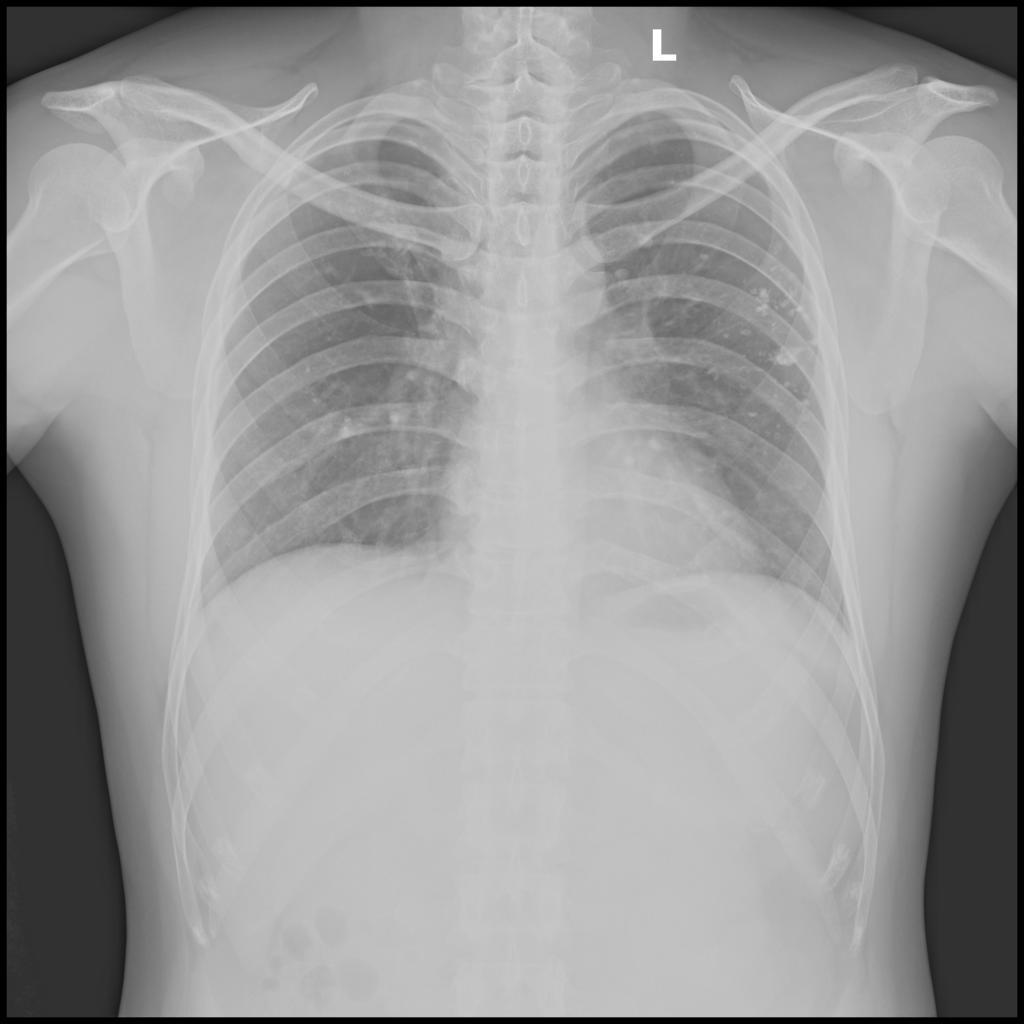Nodule: (720, 246, 819, 440), (336, 184, 417, 270)
